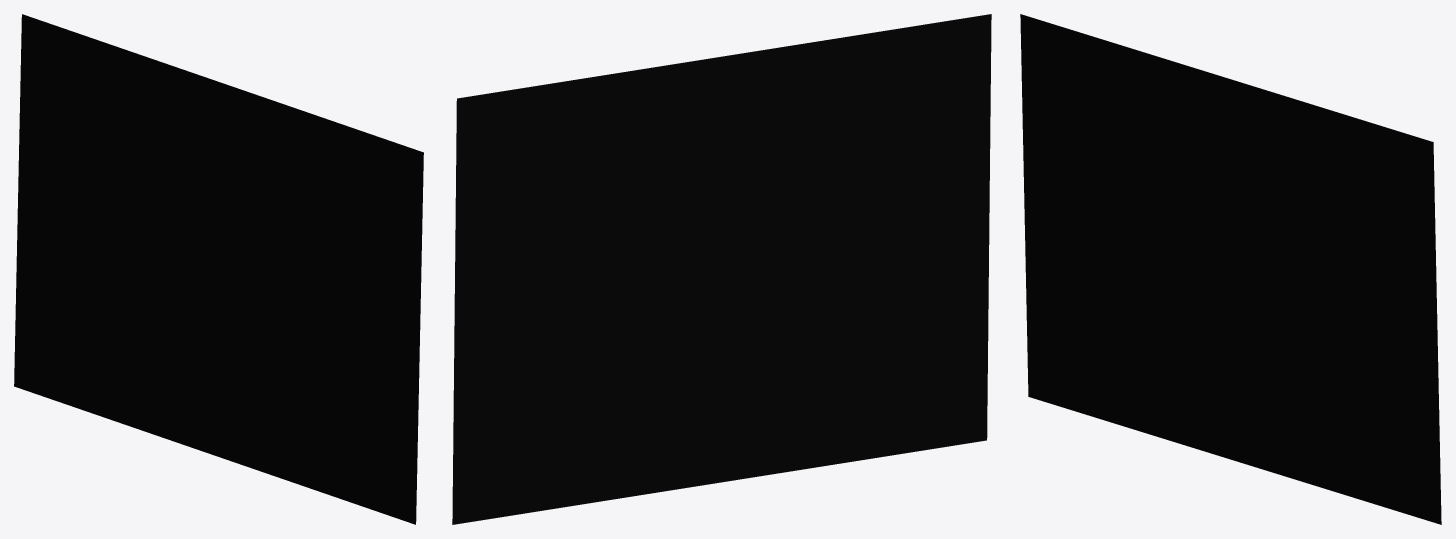
Rendered from Cobweb.obj.
The picture shows the model from 3 angles, left to right: view 1: azimuth 90°, elevation 25°; view 2: azimuth 150°, elevation 25°; view 3: azimuth 270°, elevation 25°; orthographic projection. The views are drawn at different scales.
Parts seen in each view (by area): view 1: pPlane1; view 2: pPlane1; view 3: pPlane1.
Boxes of the visible parts, x1,y1,x2,y2 form: pPlane1: (14,14,423,524); pPlane1: (452,14,991,524); pPlane1: (1020,14,1441,524).
Bounding box in the file's own units: 4.85 × 6.52 × 6.38.
1 material, 1 textured.
